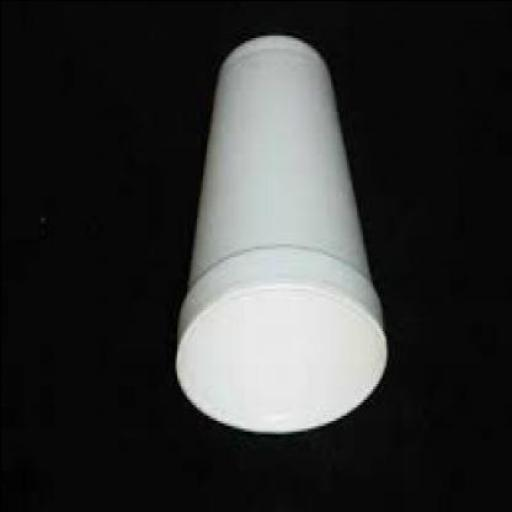paper: (176, 34, 391, 436)
